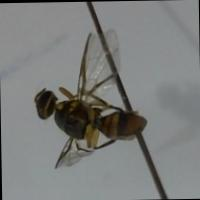Oriental-fruit-fly: (27, 35, 167, 178)
